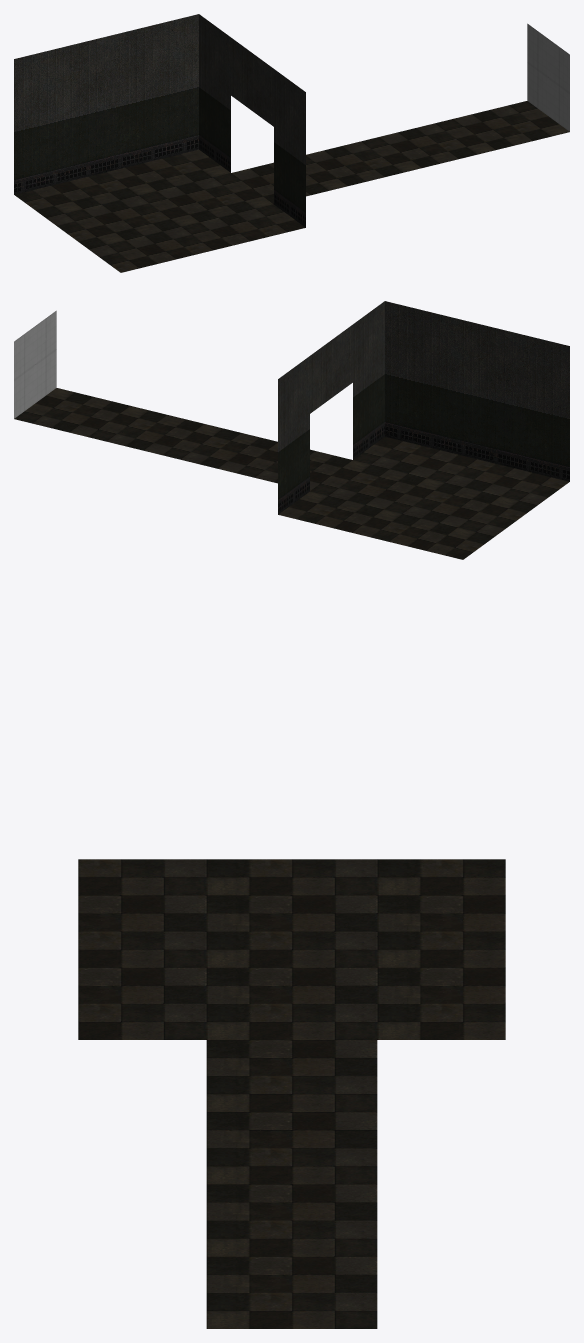
The model's file is ue5level.gltf.
3 views of the same model, one above another, from view 1: azimuth 30°, elevation 25°; view 2: azimuth 150°, elevation 25°; view 3: azimuth 270°, elevation 25° (orthographic). The views are drawn at different scales.
Visible parts, largest first — view 1: Block; view 2: Block; view 3: Block.
Boxes of the visible parts, left/top/right/bottom form: Block: left=14, top=14, right=569, bottom=272; Block: left=14, top=301, right=569, bottom=559; Block: left=78, top=859, right=505, bottom=1328.
Size of the model in its own units: 6.5 by 1.75 by 2.5.
Materials: 4 (4 with a texture image).
